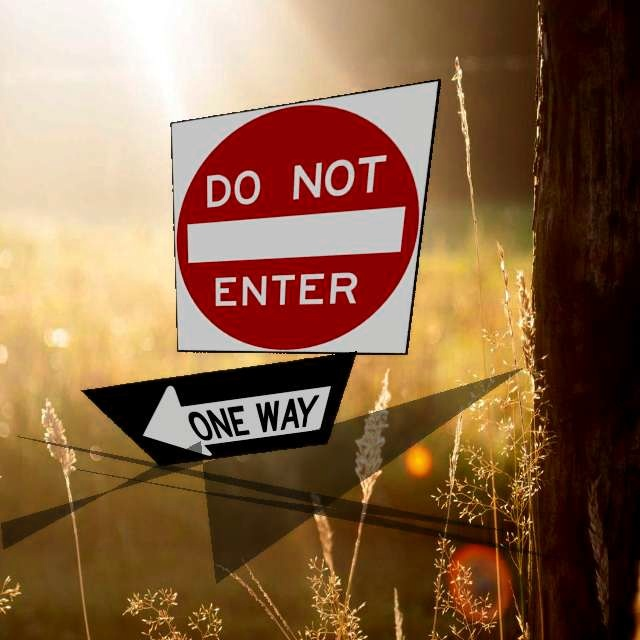DO_NOT_ENTER: (170, 78, 441, 355)
ONE_WAY_ left: (80, 351, 357, 466)
